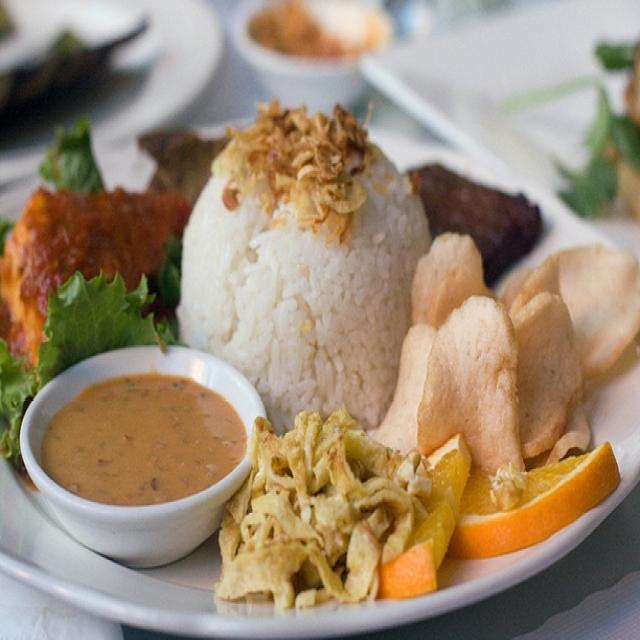米饭主食: (18, 80, 616, 607)
